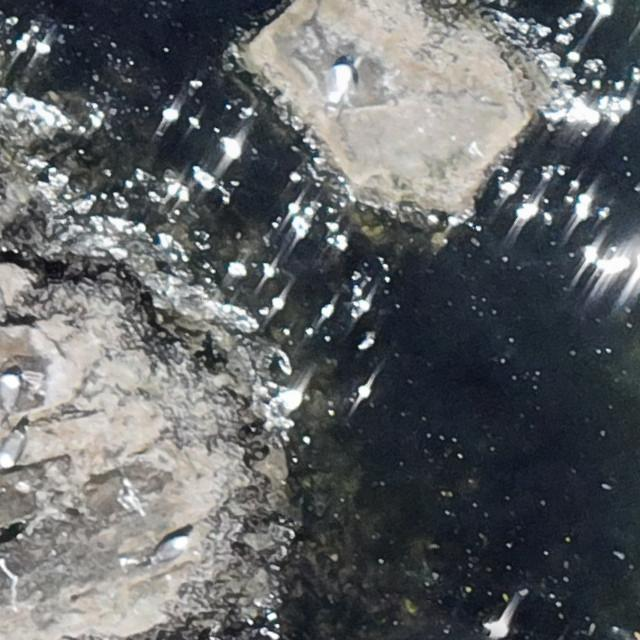umineko: (144, 535, 188, 564), (325, 64, 352, 105), (1, 434, 23, 465), (1, 374, 18, 404)
